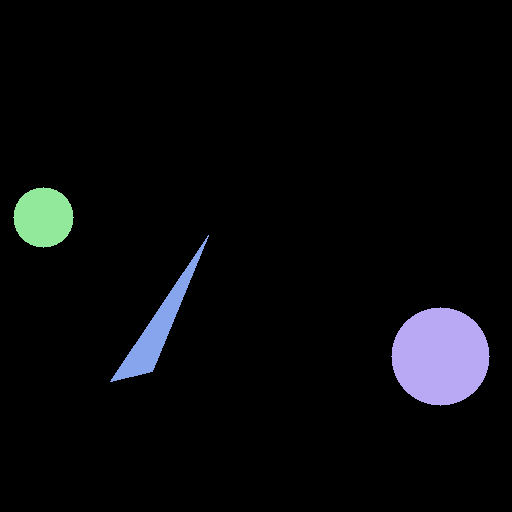circle: (391, 307, 489, 405), (13, 187, 73, 247)
triangle: (110, 235, 208, 381)
